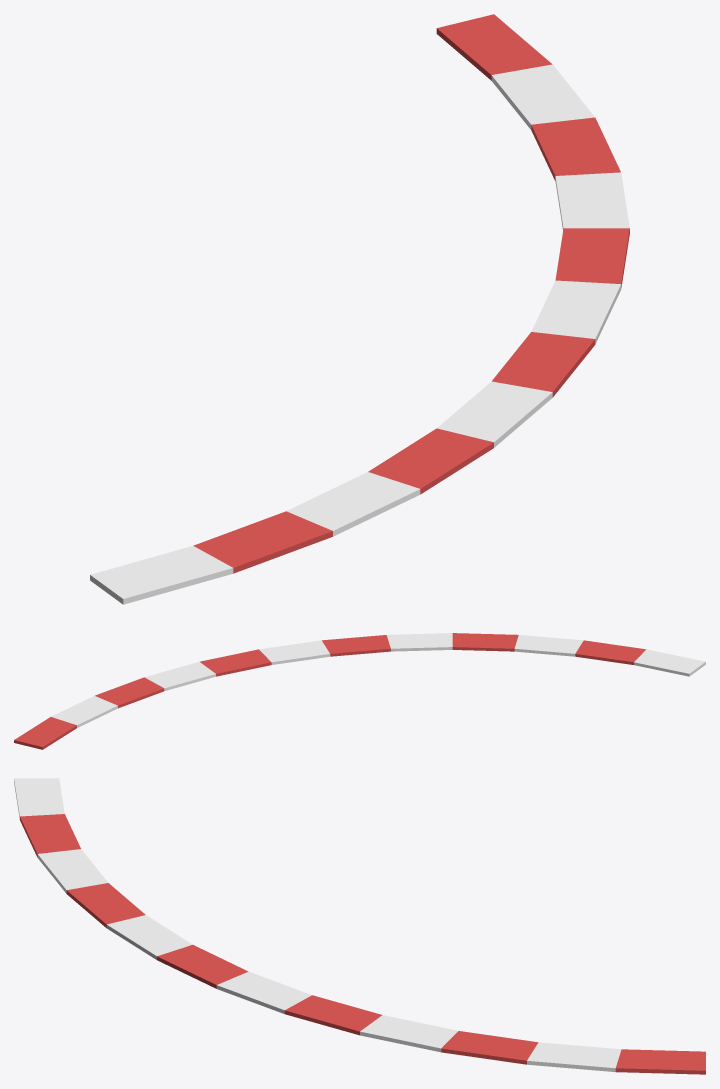
File: roadCornerLargerBorder.obj
3 views of the same model, one above another, from view 1: azimuth 30°, elevation 25°; view 2: azimuth 150°, elevation 25°; view 3: azimuth 270°, elevation 25° (orthographic). The views are drawn at different scales.
Parts seen in each view (by area): view 1: roadCornerLargerBorder; view 2: roadCornerLargerBorder; view 3: roadCornerLargerBorder.
Part boxes in pixels (bbox=[...]): roadCornerLargerBorder: bbox=[90, 14, 629, 604]; roadCornerLargerBorder: bbox=[14, 633, 705, 749]; roadCornerLargerBorder: bbox=[14, 778, 705, 1074].
Size of the model in its own units: 3.21 by 0.02 by 3.21.
